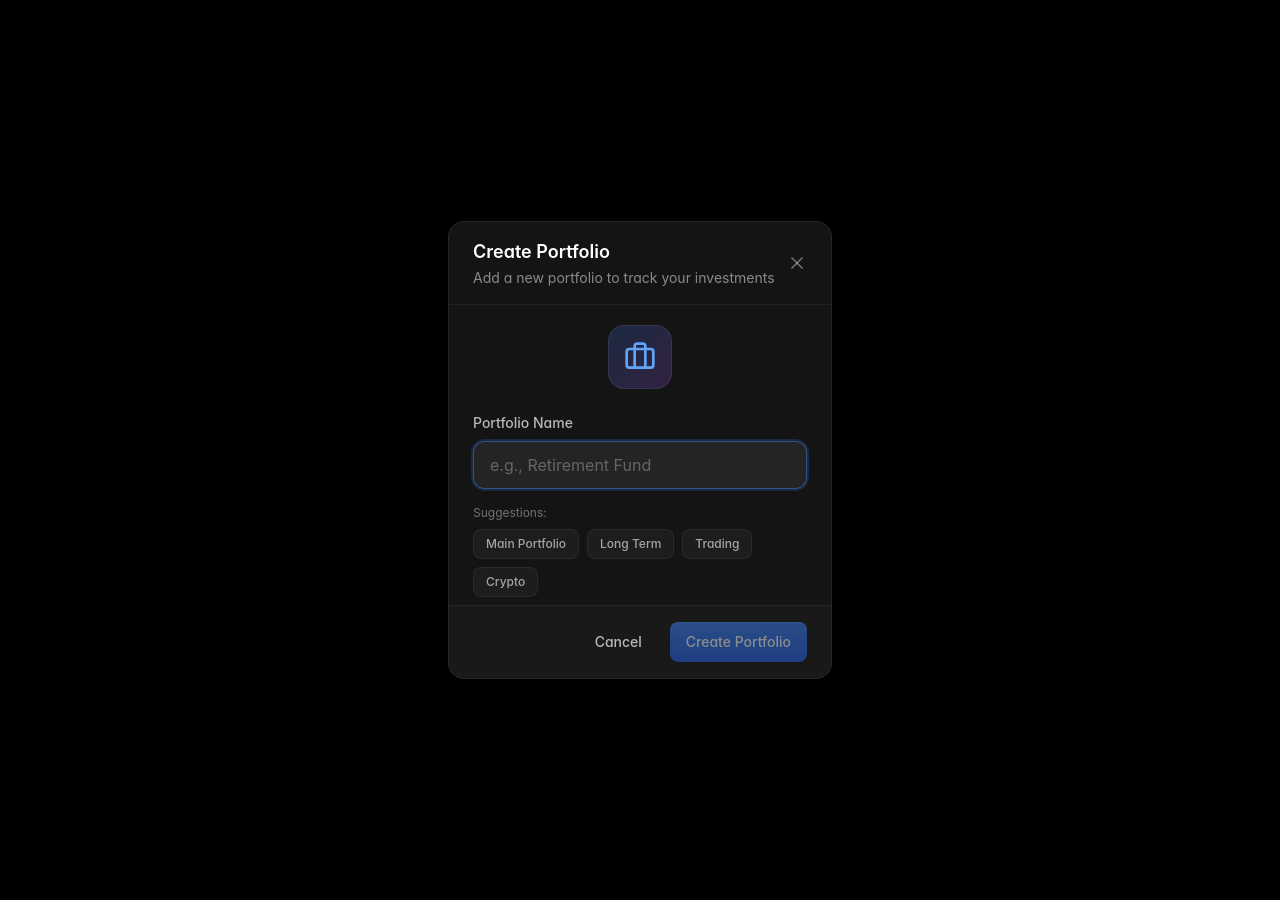
Test case: Phase 3: Portfolio Management UI Tests › CreatePortfolioModal › should fill input when clicking suggestion
The image size is (1280, 900).
Click the button "Main Portfolio".
click(526, 544)  # box [473,529,579,559]
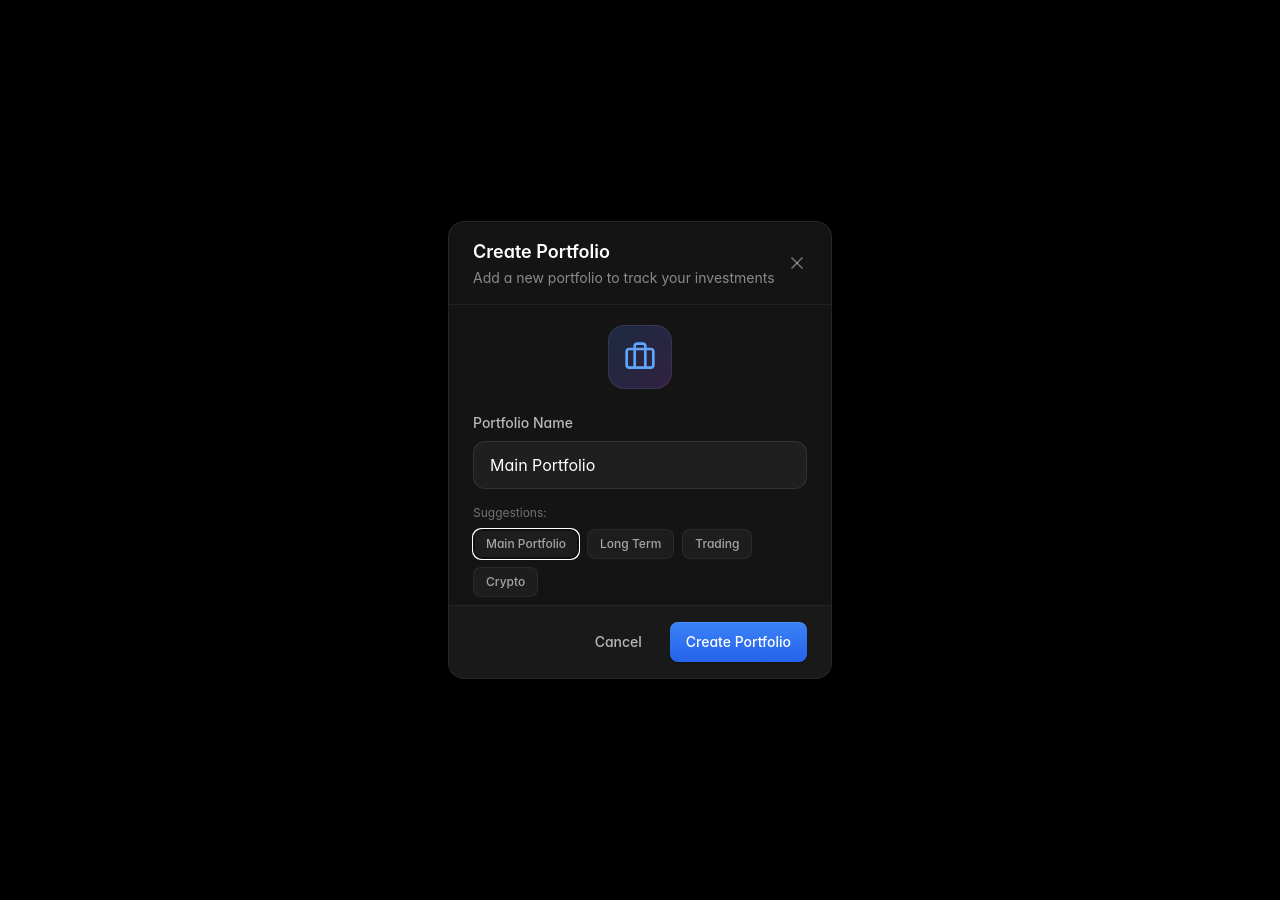
Check: the field labelled "Portfolio Name" holds "Main Portfolio", box [473,441,807,489]
